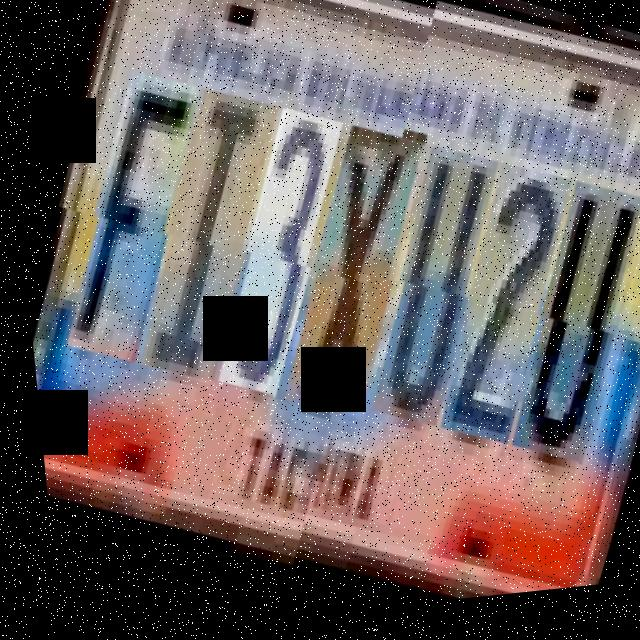2: (396, 178, 593, 476)
3: (178, 109, 369, 410)
F: (28, 66, 229, 372)
I: (100, 86, 306, 394)
U: (328, 159, 520, 455), (469, 198, 640, 496)
X: (245, 127, 451, 436)
